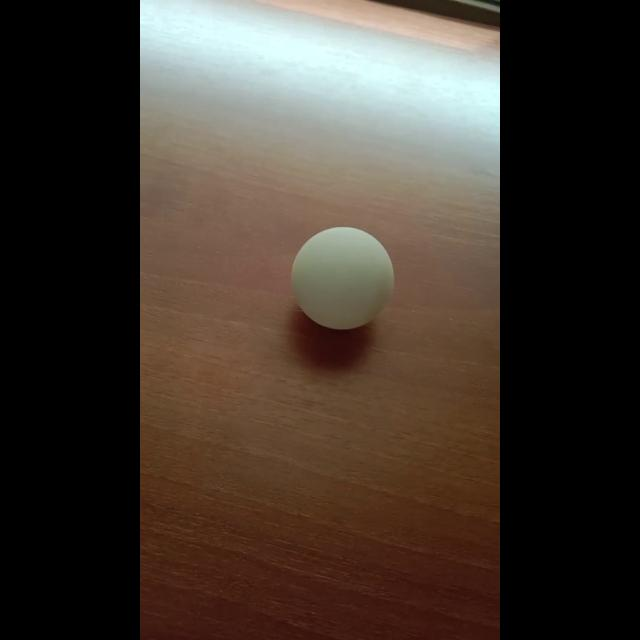white ball: (290, 226, 394, 330)
